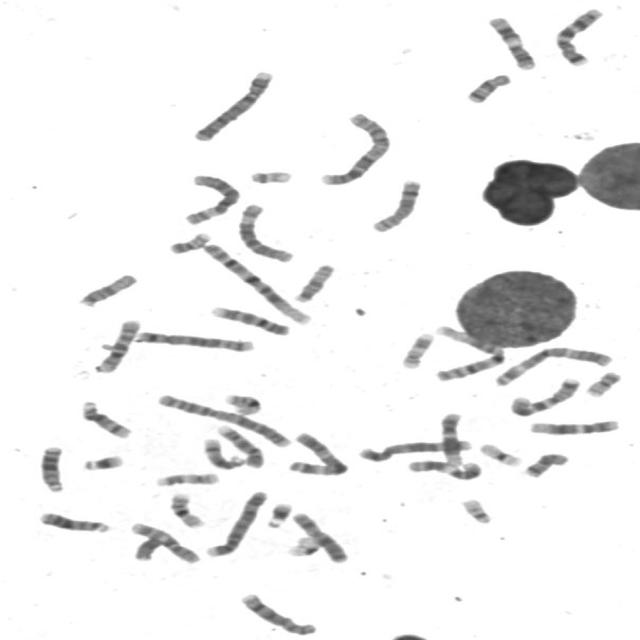A1: (197, 240, 314, 326), (427, 322, 510, 382)
A2: (152, 390, 295, 449), (315, 109, 395, 187)
A3: (488, 343, 616, 387), (284, 429, 350, 477)
B4: (188, 66, 277, 143), (201, 487, 271, 558)
B5: (353, 436, 474, 463), (130, 328, 257, 353)
C10: (126, 518, 203, 564), (90, 316, 144, 374)
C11: (484, 12, 540, 71), (403, 456, 486, 482)
C12: (525, 416, 623, 436), (436, 409, 467, 468)
C6: (233, 200, 297, 263), (180, 171, 243, 226)
C7: (550, 4, 607, 67), (506, 374, 584, 417)
C8: (235, 590, 320, 636), (367, 175, 425, 234)
C9: (206, 303, 293, 336), (212, 421, 266, 469)
D13: (35, 508, 113, 534), (35, 442, 68, 493)
D14: (76, 397, 134, 440), (198, 434, 247, 470)
D15: (74, 270, 141, 308), (289, 261, 337, 304)
E16: (165, 490, 208, 530), (219, 391, 264, 416)
E17: (397, 329, 437, 370), (151, 469, 222, 488)
E18: (462, 70, 515, 104), (520, 449, 572, 479)
F19: (475, 440, 526, 468), (282, 533, 324, 558)
F20: (582, 368, 625, 398), (165, 228, 214, 254)
G21: (261, 499, 295, 529), (77, 452, 127, 472)
G22: (456, 494, 496, 524), (244, 167, 296, 185)
X: (288, 509, 352, 564)
Y: (129, 534, 166, 562)
